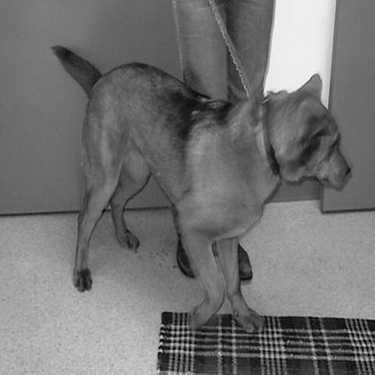dog: (37, 35, 357, 336)
